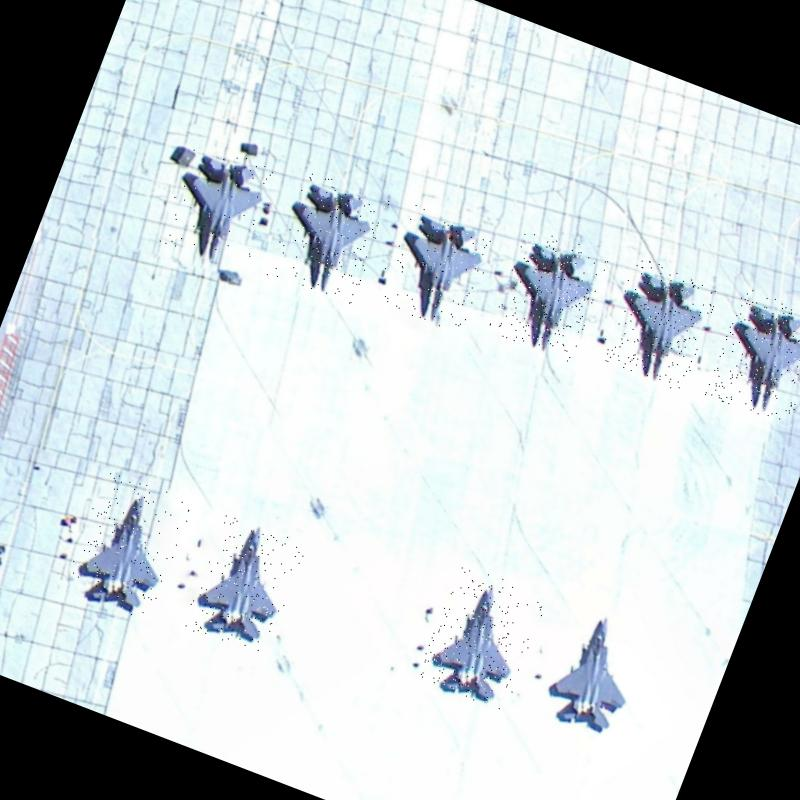A13: (61, 469, 194, 622), (414, 562, 548, 712), (180, 511, 308, 658), (532, 596, 658, 744), (157, 138, 284, 276), (486, 224, 612, 363), (596, 254, 722, 392), (266, 168, 391, 307), (372, 199, 499, 334), (703, 287, 800, 428)
